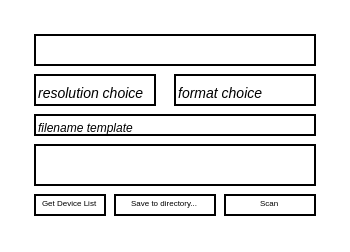
This 350x252 diagram has some shape labels left out. The box of each missing label's shape, as (x1, y1, x2, y2) in pixels:
activity/scanned docs history: (33, 143, 315, 185)
device list choice: (33, 33, 315, 65)
